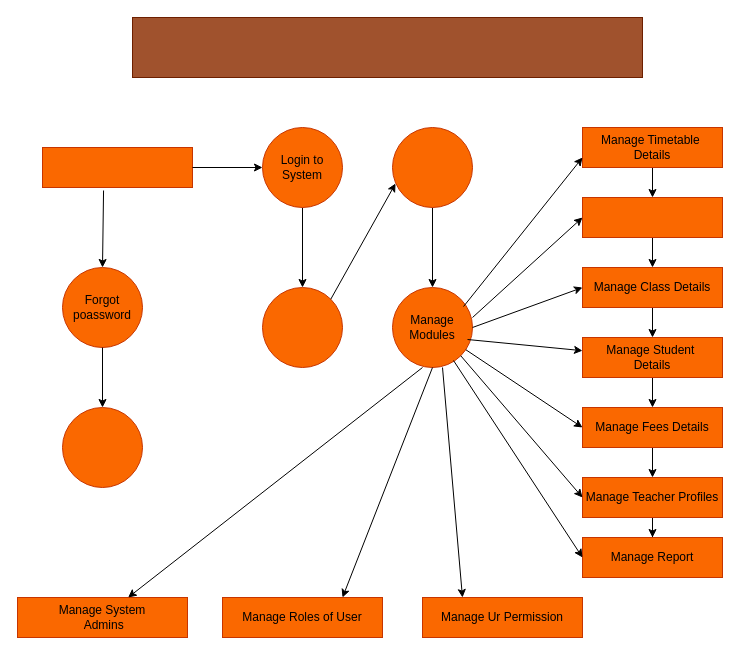
This 740x671 diagram has some shape labels left out. The centre of each missing label's shape, as x and y in pixels:
"Admin" goes at [117,167].
"Check Credentials" goes at [302,327].
"Check roles of access" goes at [432,167].
"Manage Attendence Details" goes at [652,217].
"Send Email to USer" goes at [102,447].
"Student Information System" goes at [387,47].
